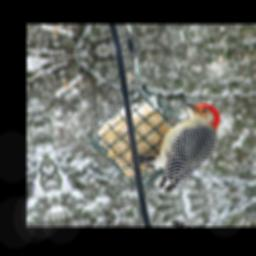Woodpecker: (125, 95, 233, 196)
